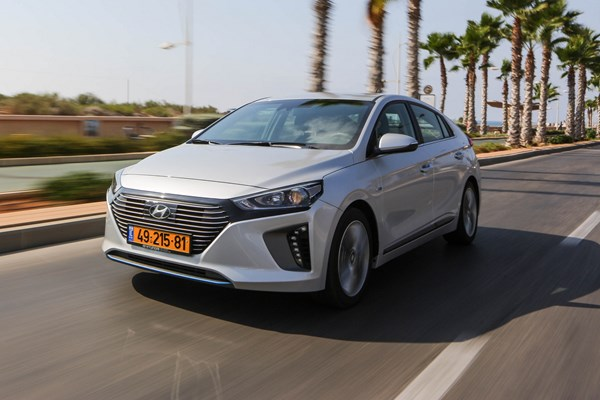licence: (127, 222, 191, 258)
